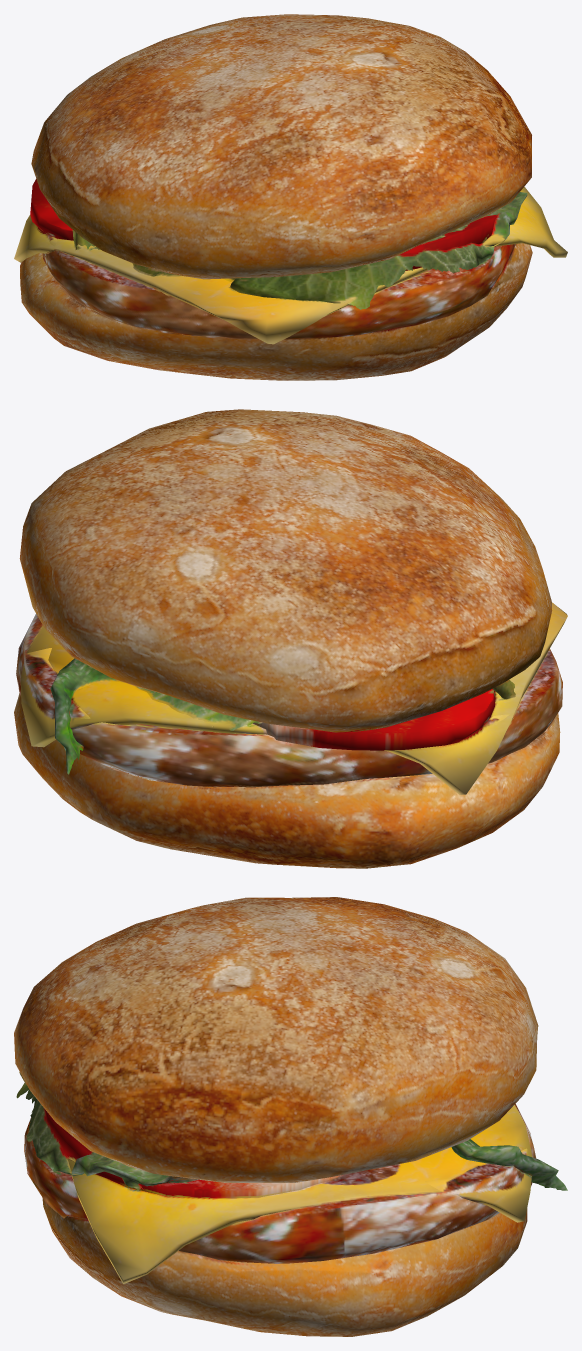
The model's file is Burger.glb.
3 views of the same model, one above another, from view 1: azimuth 30°, elevation 25°; view 2: azimuth 150°, elevation 25°; view 3: azimuth 270°, elevation 25° (orthographic). The views are drawn at different scales.
Parts seen in each view (by area): view 1: SM_Burger; view 2: SM_Burger; view 3: SM_Burger.
Part boxes in pixels (x1,y1,x2,y2): SM_Burger: (14, 14, 567, 380); SM_Burger: (14, 409, 567, 868); SM_Burger: (14, 897, 567, 1336).
Size of the model in its own units: 0.1158 by 0.0689 by 0.1102.
1 material, 1 textured.
